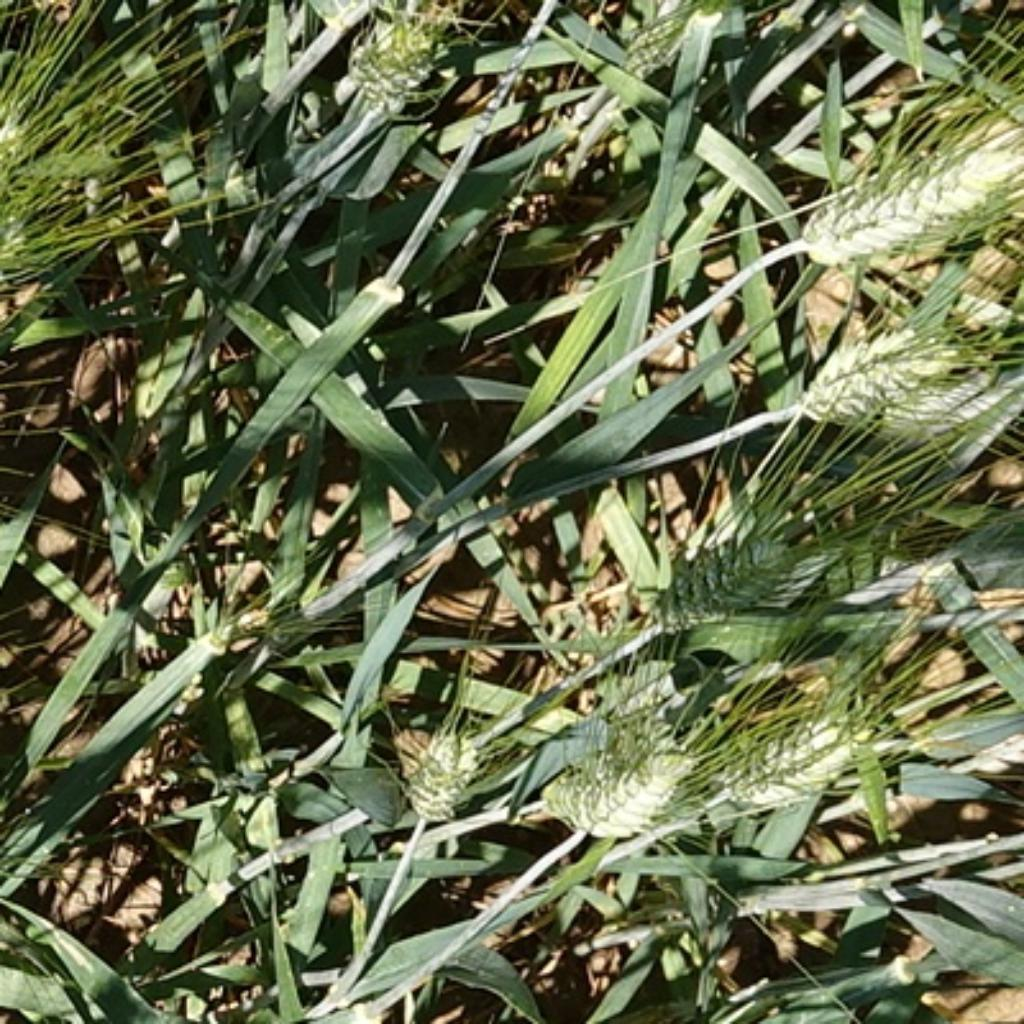0-0: (798, 97, 1024, 281), (698, 678, 885, 816), (531, 729, 700, 860), (630, 532, 820, 640), (777, 315, 958, 428), (332, 2, 460, 117), (877, 356, 1024, 443), (599, 2, 760, 76), (397, 718, 494, 825)
